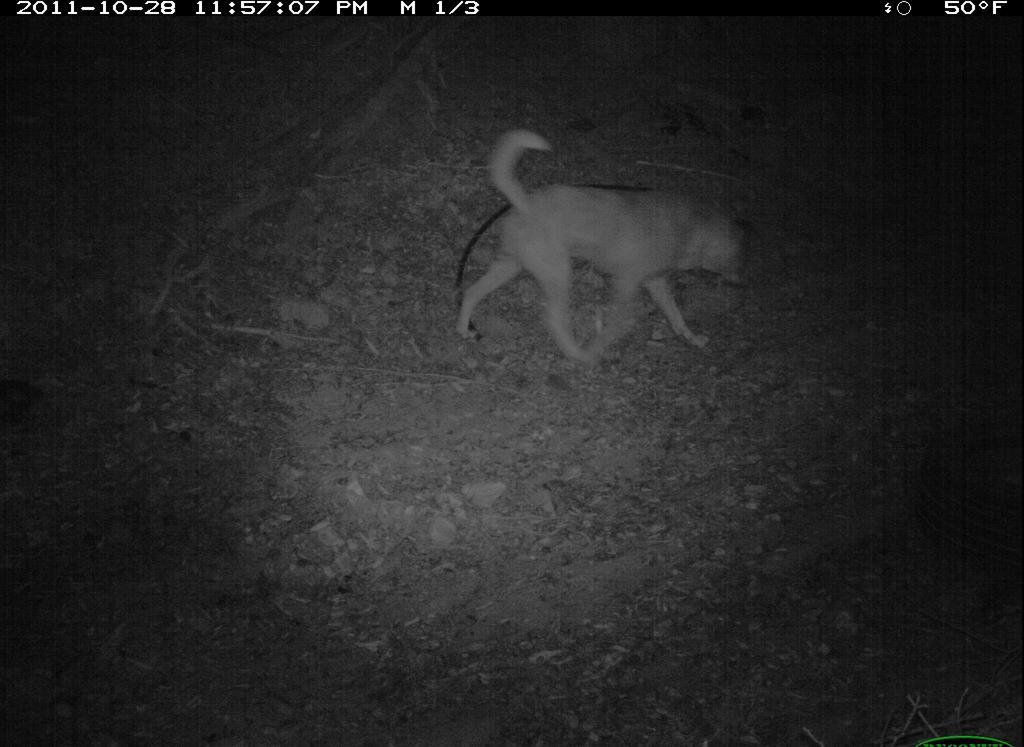dog: (449, 126, 769, 377)
